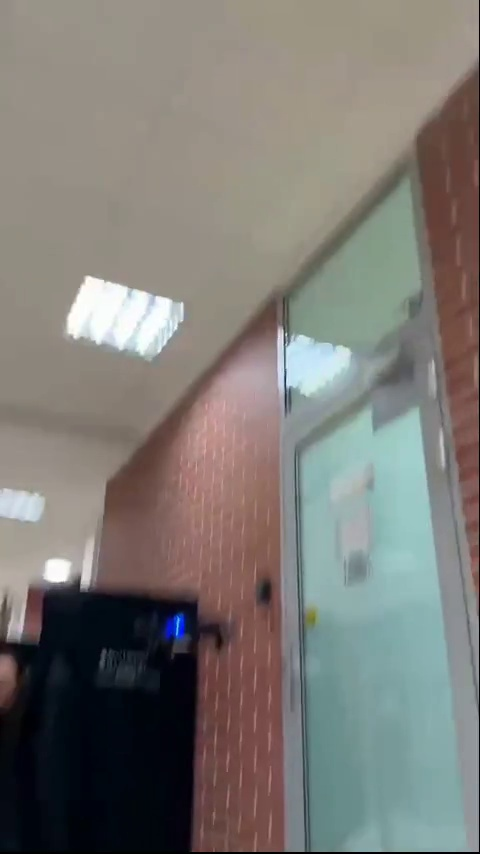drone: (140, 614, 224, 655)
